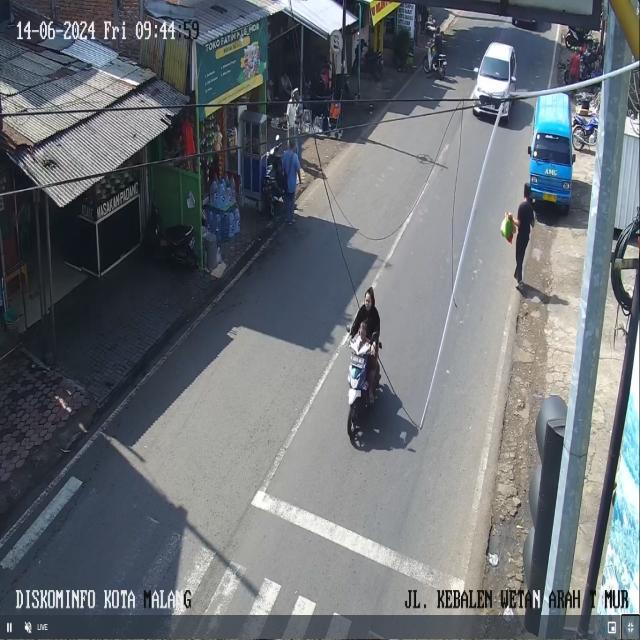Number Plate: (351, 354, 364, 367), (543, 193, 556, 202)
Rearview Mirror: (527, 145, 531, 154), (473, 67, 478, 73), (275, 134, 279, 141), (511, 75, 515, 82), (572, 153, 575, 162)
